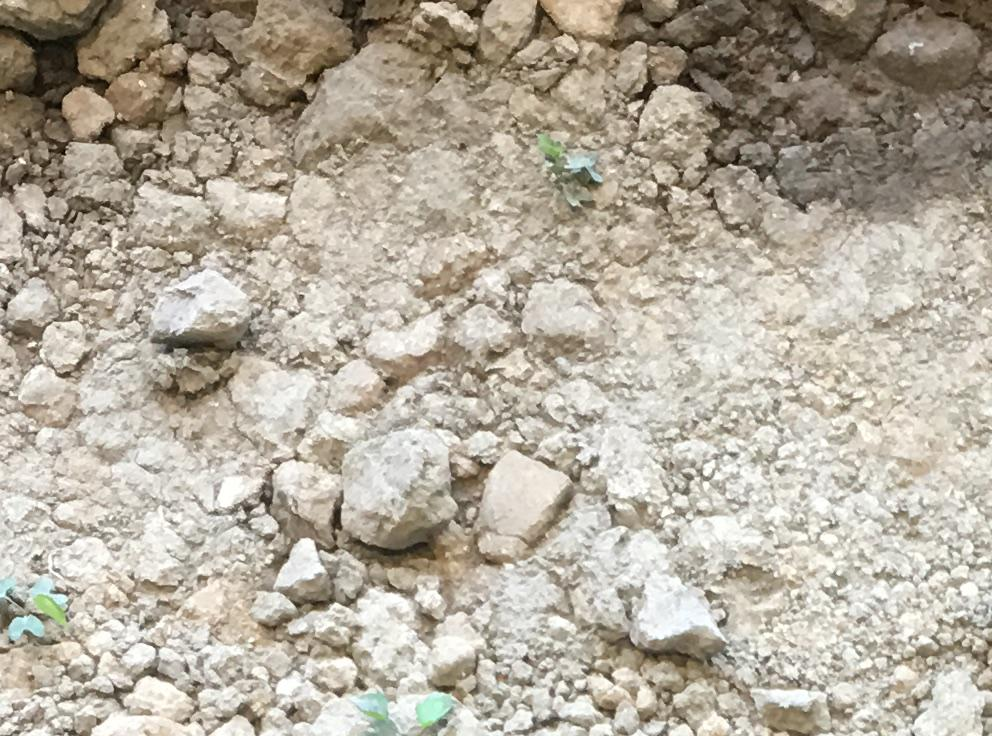block: (334, 429, 460, 547), (617, 563, 725, 665), (475, 442, 565, 563), (144, 265, 249, 347)
